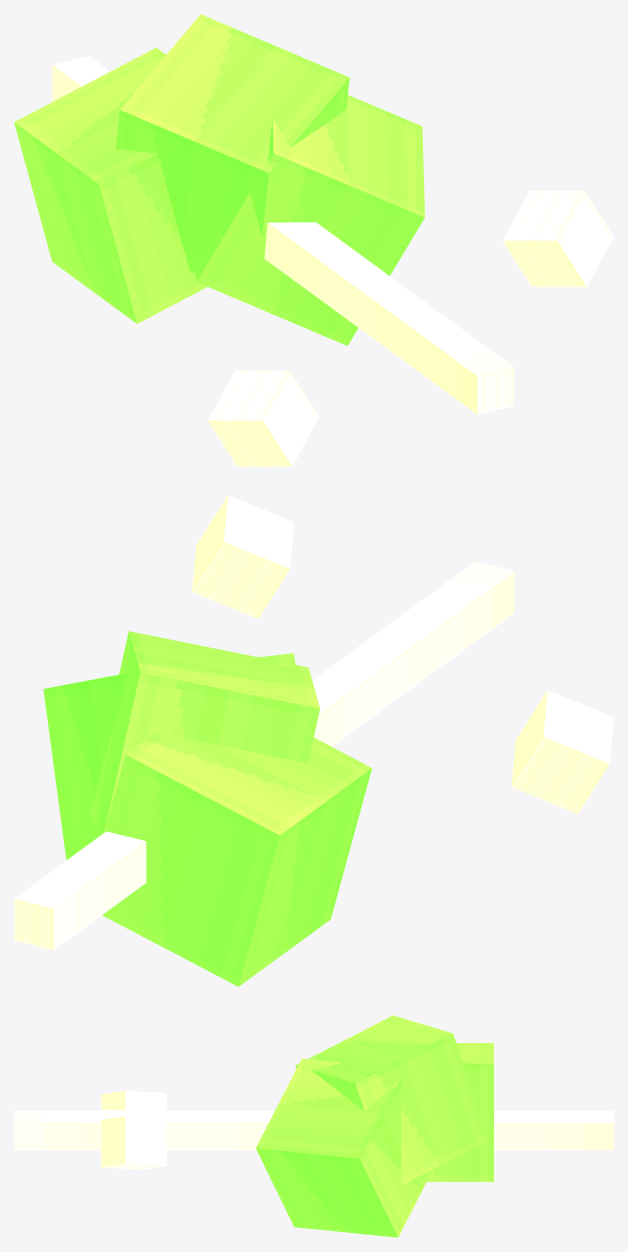
File: projectile_poison_poison.gltf
3 views of the same model, one above another, from view 1: azimuth 30°, elevation 25°; view 2: azimuth 150°, elevation 25°; view 3: azimuth 270°, elevation 25° (orthographic). The views are drawn at different scales.
Visible parts, largest first — view 1: core_mesh; view 2: core_mesh; view 3: core_mesh.
Part boxes in pixels (bbox=[...]): core_mesh: bbox=[14, 14, 613, 466]; core_mesh: bbox=[14, 495, 613, 986]; core_mesh: bbox=[14, 1015, 613, 1237].
Bounding box in the file's own units: 0.3342 × 0.2092 × 0.625.
Materials: 1 (1 with a texture image).
